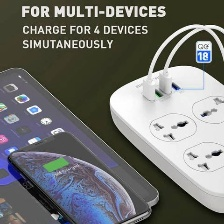phone: (4, 128, 154, 224)
three_eye_plug: (105, 61, 224, 218)
